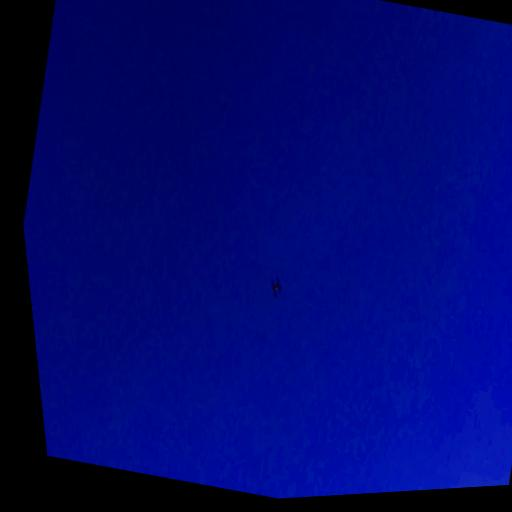drones: (266, 272, 287, 301)
